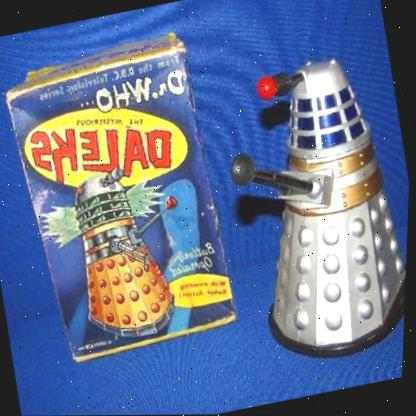dalek: (191, 27, 415, 383)
